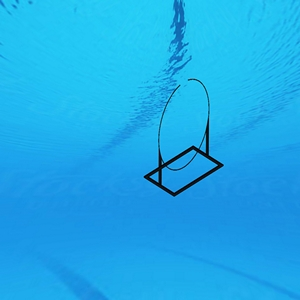circle: (135, 76, 225, 196)
